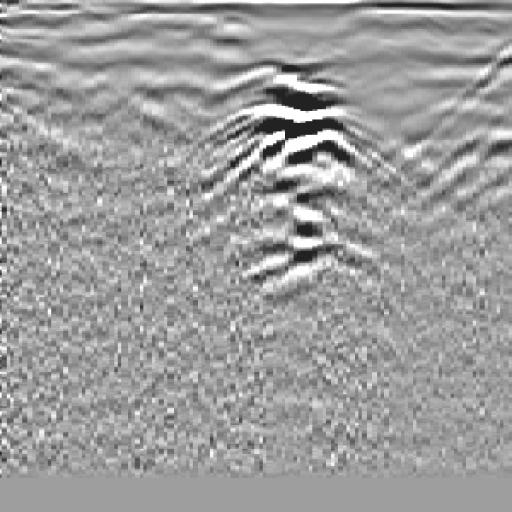metalic: (166, 52, 429, 317)
